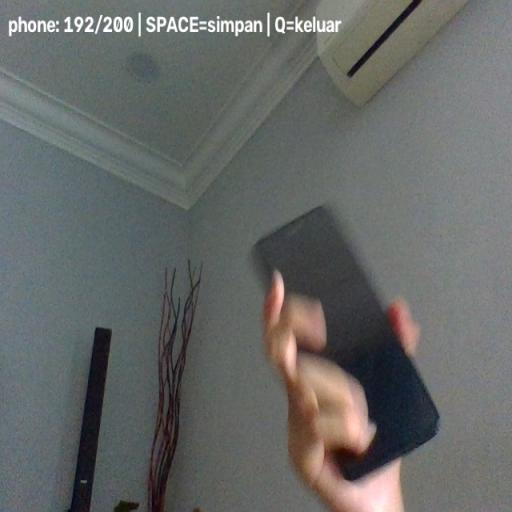Phone: (254, 205, 442, 481)
